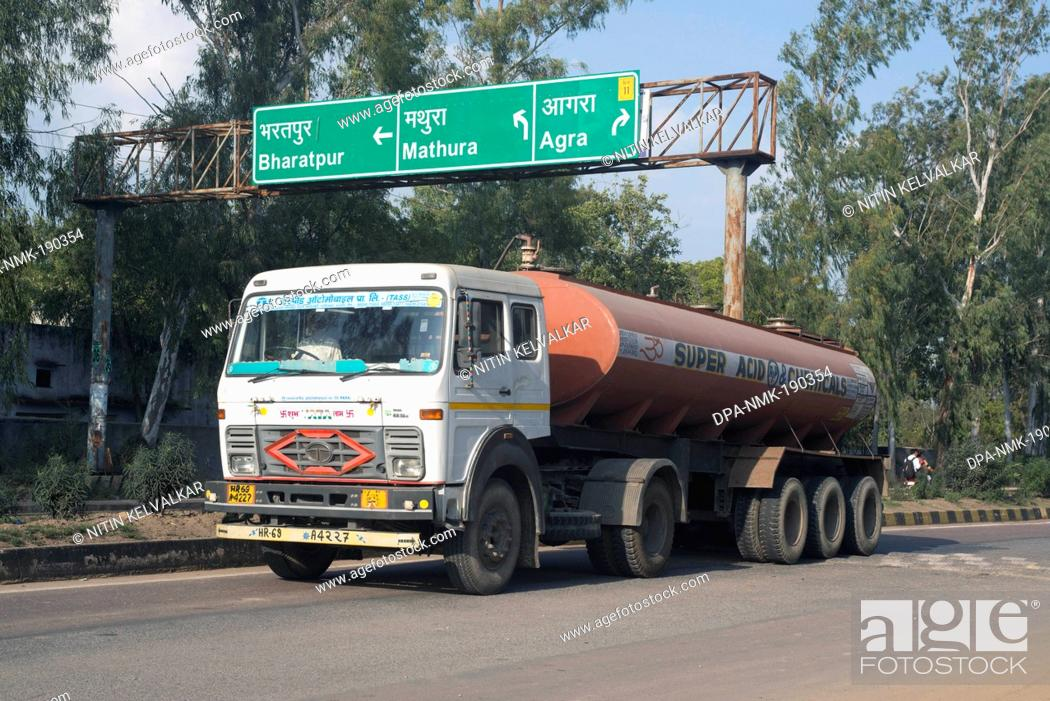truck: (215, 265, 886, 596)
